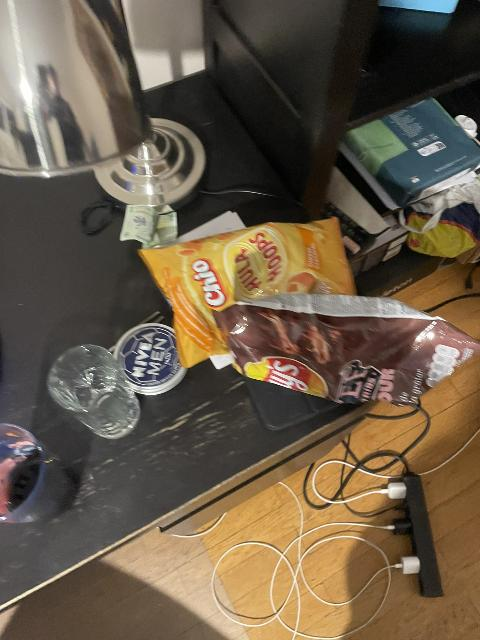Chio Hula Hoops Cheese 70g: (140, 222, 352, 365)
Lays Beef Grilled Ribs 125g: (211, 290, 476, 401)
